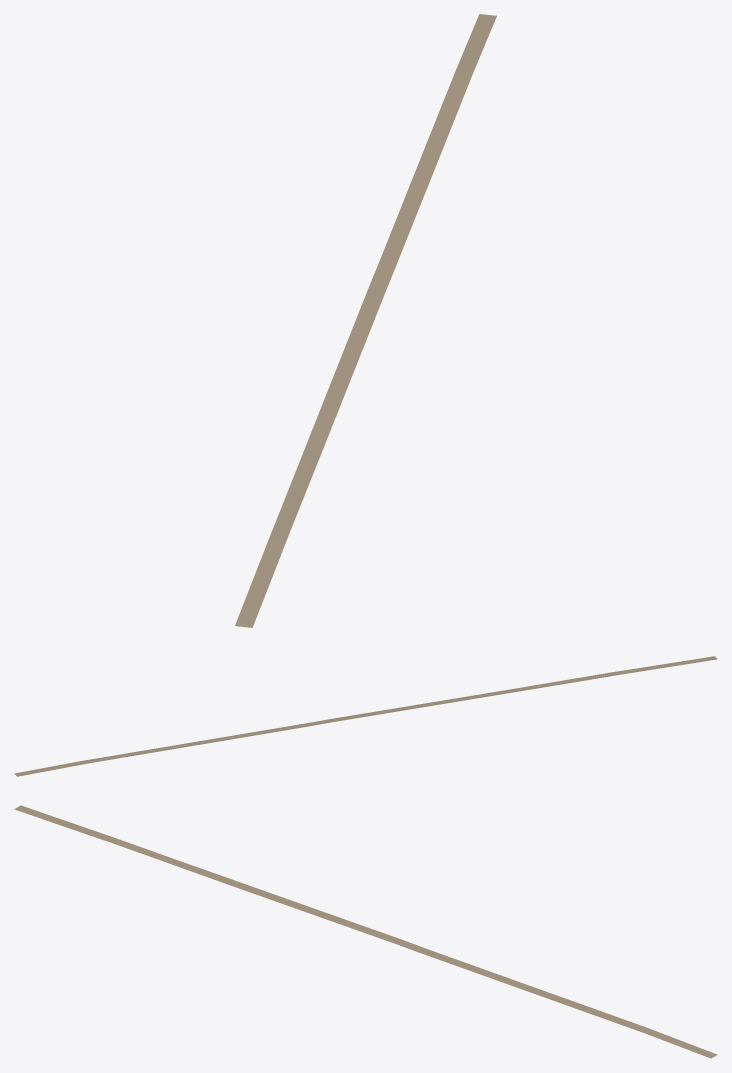
The model's file is farm_24_18_track.glb.
The picture shows the model from 3 angles, top to bottom: view 1: azimuth 30°, elevation 25°; view 2: azimuth 150°, elevation 25°; view 3: azimuth 270°, elevation 25°; orthographic projection. The views are drawn at different scales.
Parts seen in each view (by area): view 1: geometry_0; view 2: geometry_0; view 3: geometry_0.
Part boxes in pixels (x1,y1,x2,y2): geometry_0: [235, 14, 496, 627]; geometry_0: [14, 656, 717, 776]; geometry_0: [14, 805, 717, 1058].
Size of the model in its own units: 176 by 2.65 by 213.
